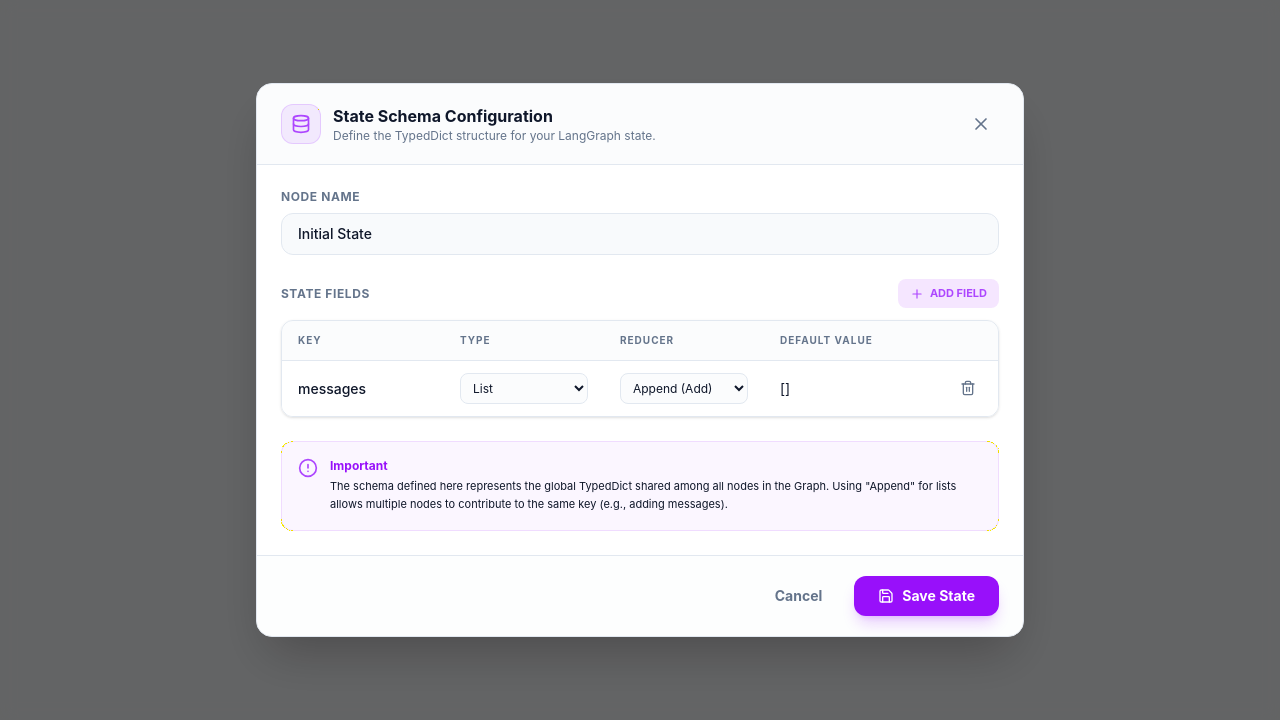
it: StateNodeModal › adds a new field
The width and height of the screenshot is (1280, 720).
What coordinates should you click on to do the following:
click the button "Add Field"
I would click on:
 (948, 294)
Its box is top-left (898, 279), bottom-right (999, 308).
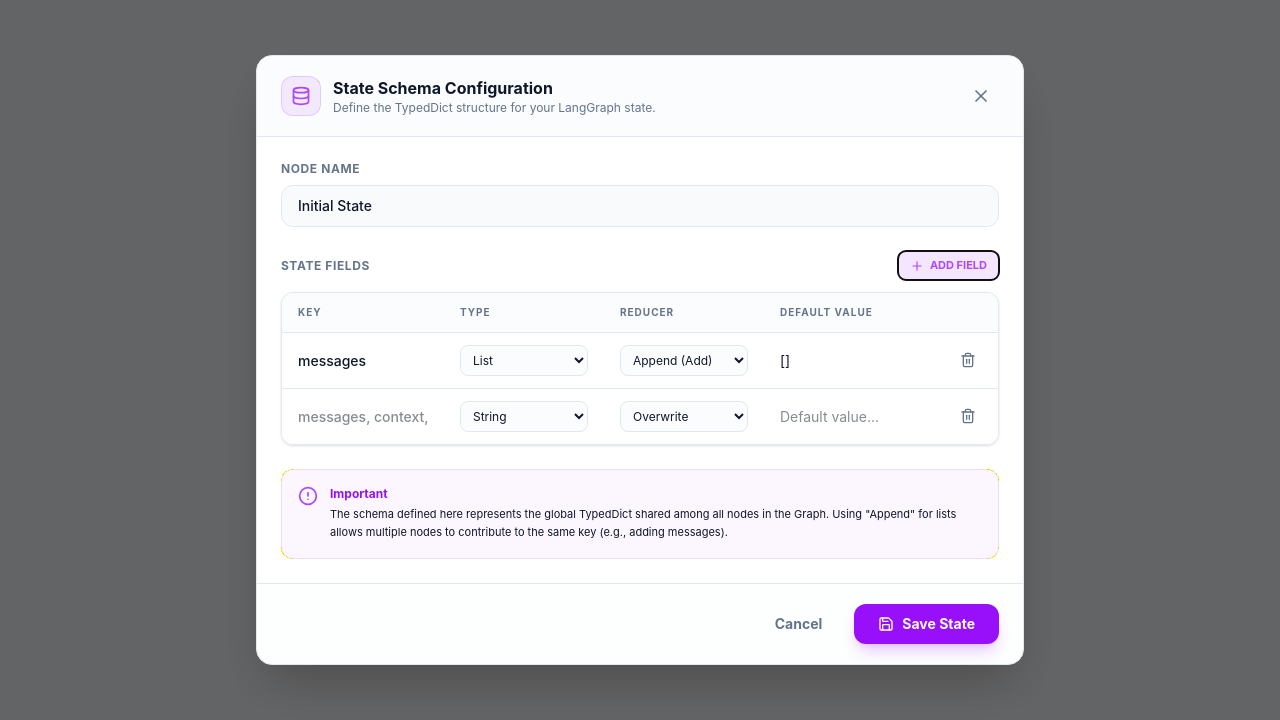
Check: the number of fields with placeholder "messages, context, etc." is 2, box top-left (298, 351), bottom-right (428, 371); top-left (298, 407), bottom-right (428, 427)
